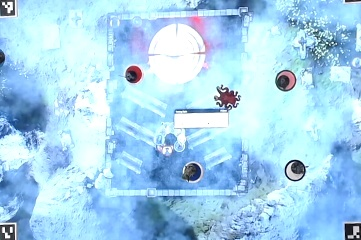blue: (181, 160, 205, 183)
giant_red_octopus: (212, 85, 242, 110)
pink_green: (273, 69, 296, 92)
red: (122, 64, 145, 87)
white: (284, 159, 307, 182)
